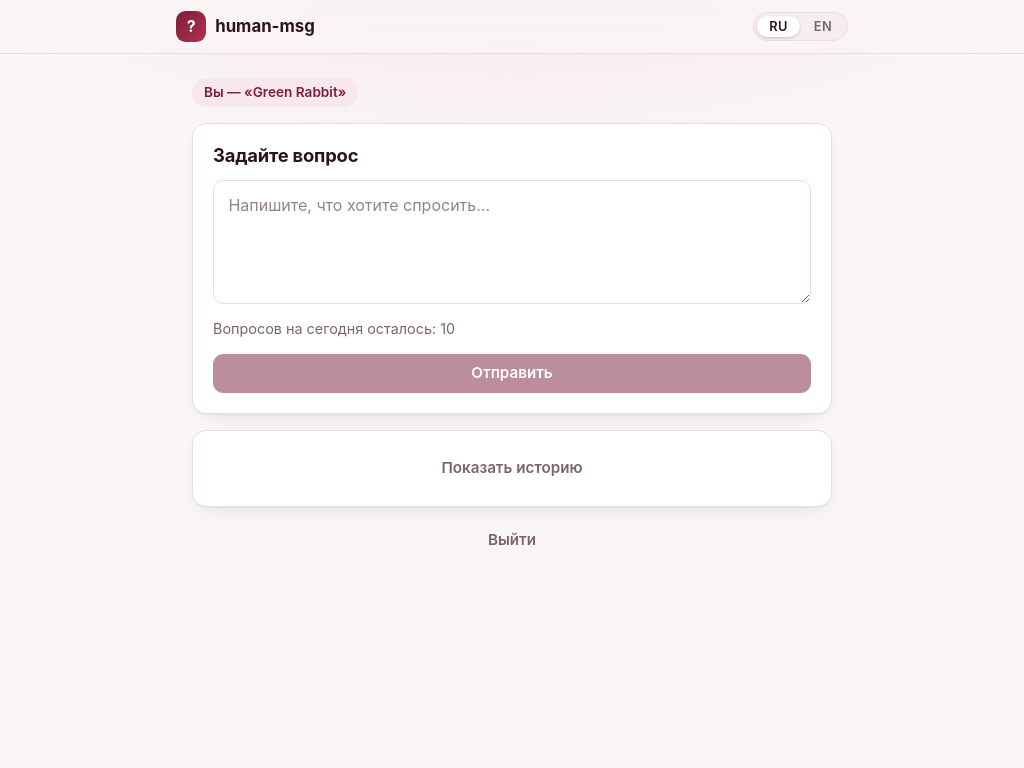
it: signed in › saves a language switch in the profile
This screenshot has width=1024, height=768.
Check: the text "Вы — «Green Rabbit»" is shown, box [192,78,358,107]
Click the button "EN" at (823, 26), box [802,16,844,37]
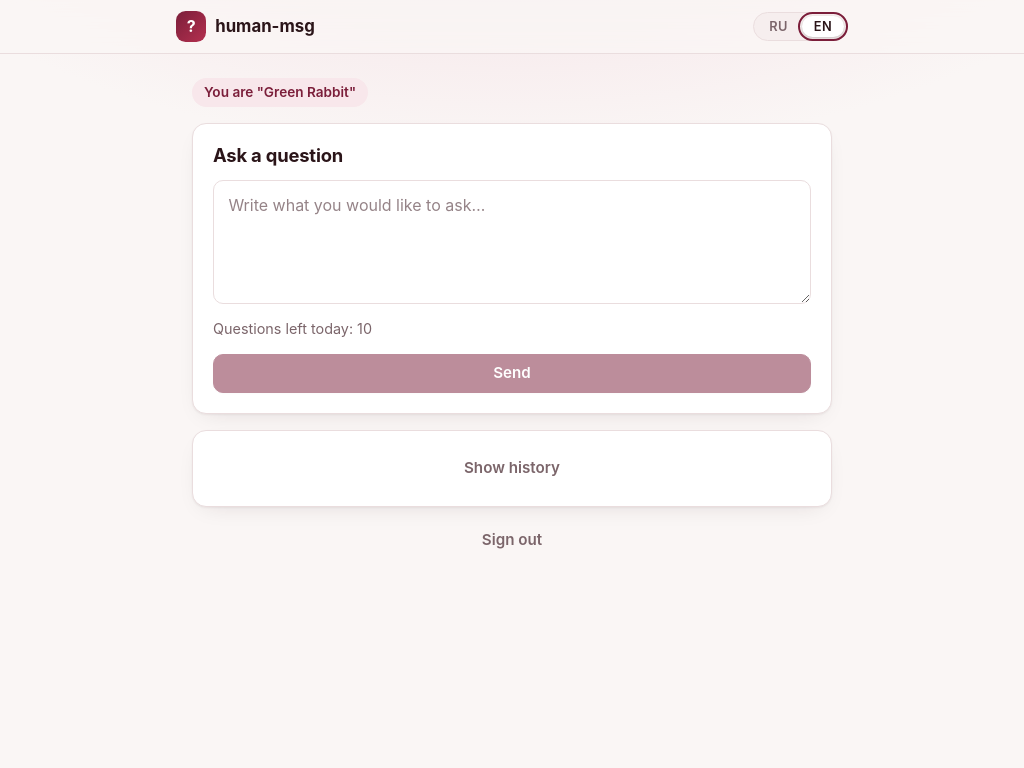
Check: the text with test id "who" reads "You are \"Green Rabbit\"", box [204,84,356,100]
